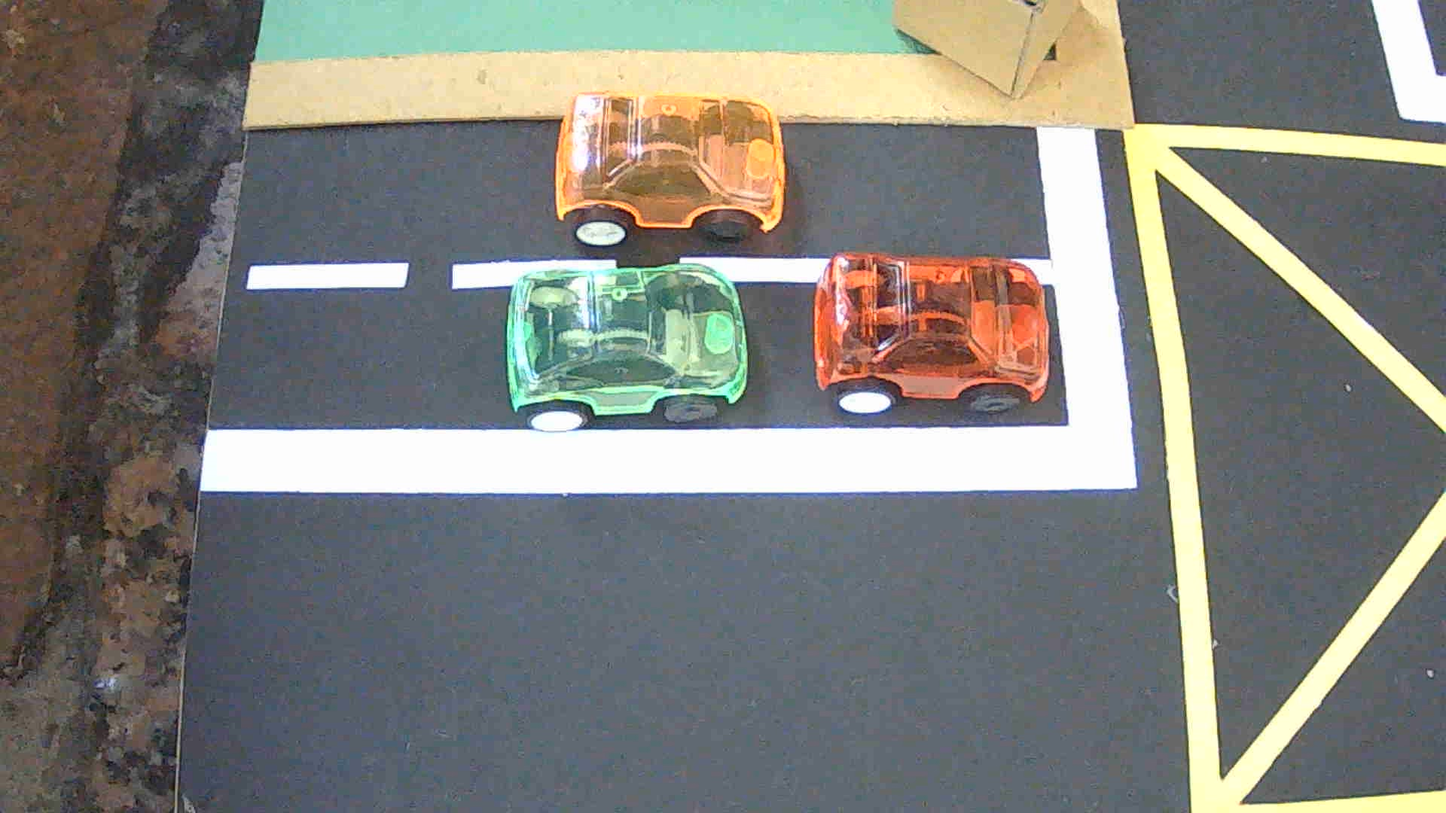Mobil hijau: (505, 263, 746, 431)
Mobil merah: (813, 252, 1050, 414)
Mobil orange: (554, 93, 786, 247)
